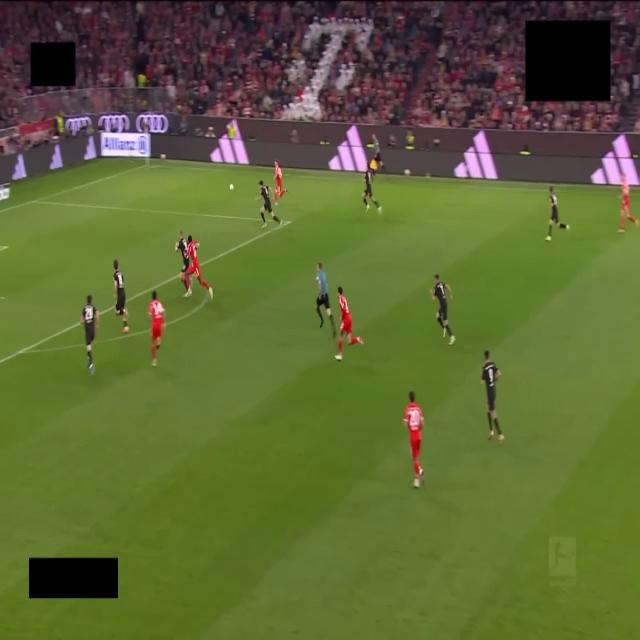ball: (230, 184, 233, 191)
player: (335, 287, 363, 360), (181, 235, 212, 299), (481, 351, 503, 440), (404, 392, 424, 487), (432, 274, 455, 344), (81, 296, 98, 375), (546, 185, 569, 241), (148, 292, 164, 367), (619, 173, 638, 232), (259, 181, 281, 228), (114, 260, 128, 333), (363, 168, 381, 213), (274, 160, 287, 205), (176, 232, 189, 273)
referee: (316, 262, 336, 337)
